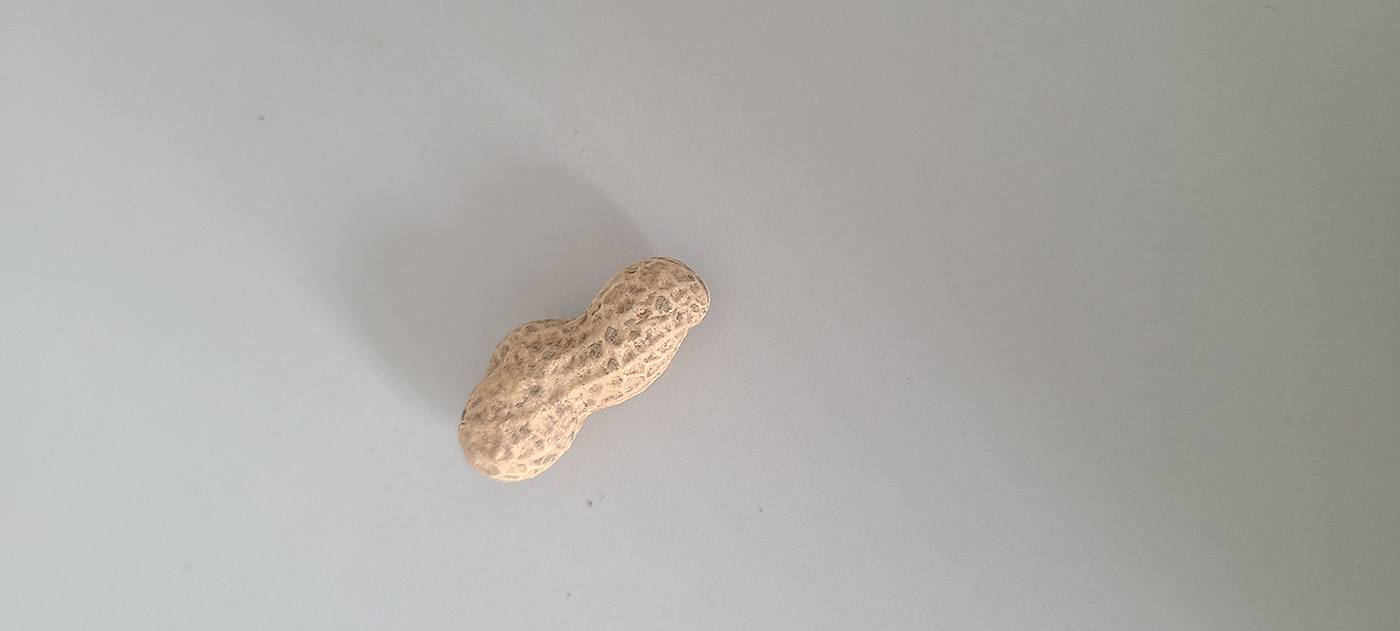h: (456, 254, 711, 480)
